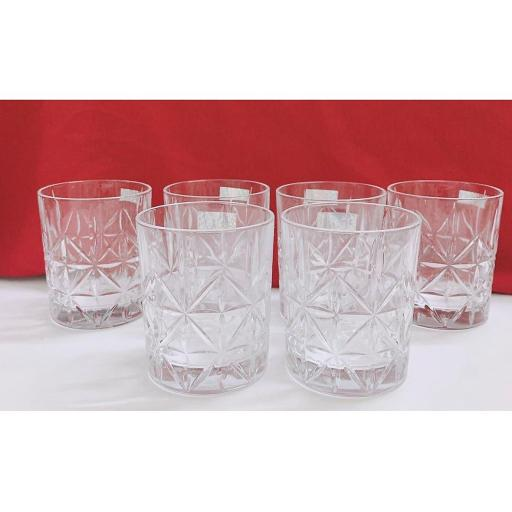cup: (279, 202, 421, 396), (137, 201, 274, 394), (387, 181, 502, 329), (38, 180, 151, 328), (276, 181, 386, 239), (164, 179, 269, 207)
